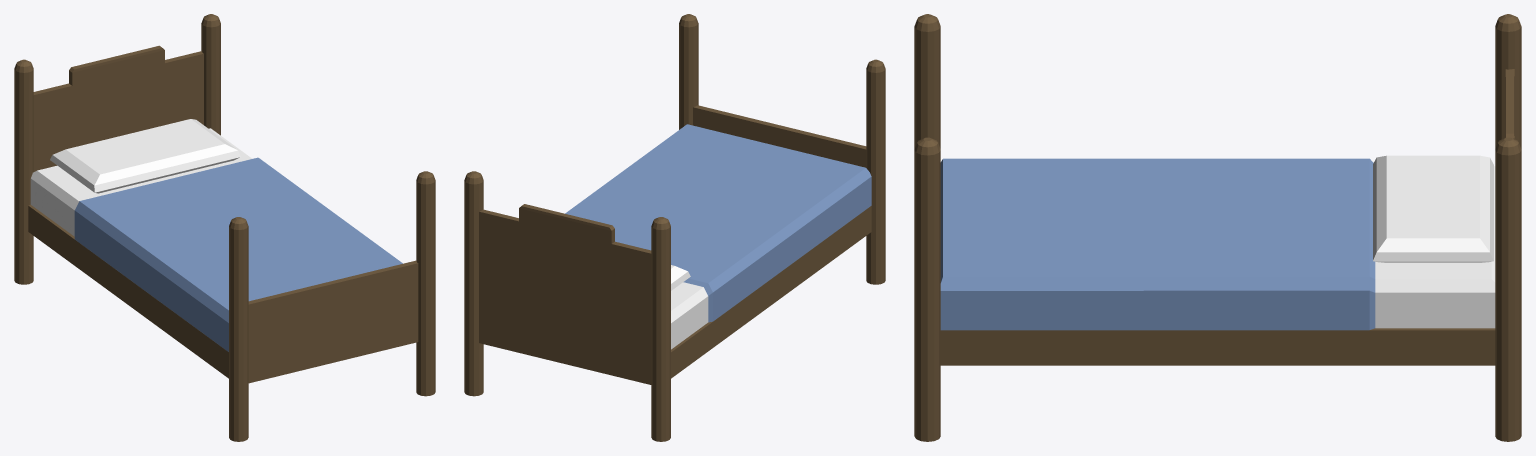
File: bed.obj
3 renders of one model, left to right at view 1: azimuth 30°, elevation 25°; view 2: azimuth 150°, elevation 25°; view 3: azimuth 270°, elevation 25°, orthographic. The views are drawn at different scales.
Visible parts, largest first — view 1: Cube; view 2: Cube; view 3: Cube.
Part boxes in pixels (box(x1,y1,x2,y2)): Cube: box(14, 14, 435, 441); Cube: box(464, 14, 885, 441); Cube: box(914, 14, 1521, 441).
Bounding box in the file's own units: 0.812 × 0.8356 × 1.55.
Materials: 1 (1 with a texture image).
